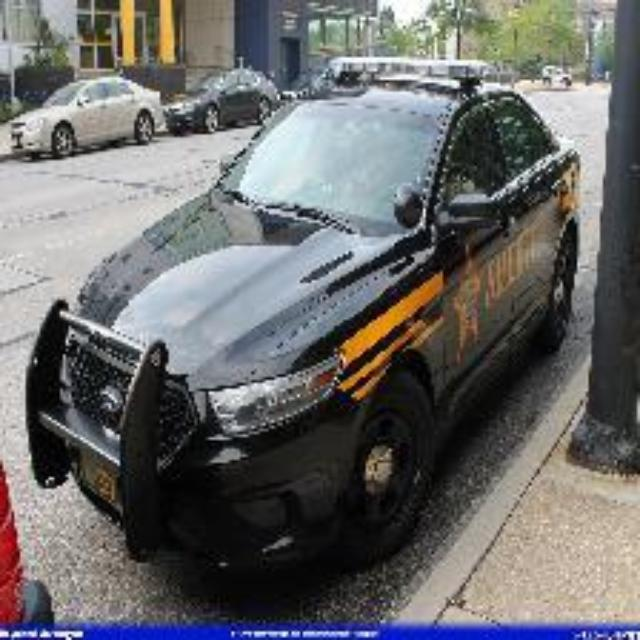emergency: (46, 46, 586, 586)
